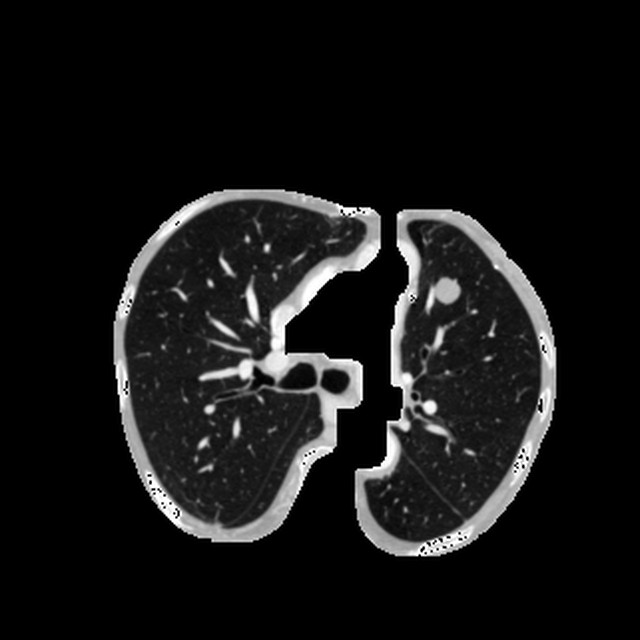PN: (435, 279, 459, 303)
